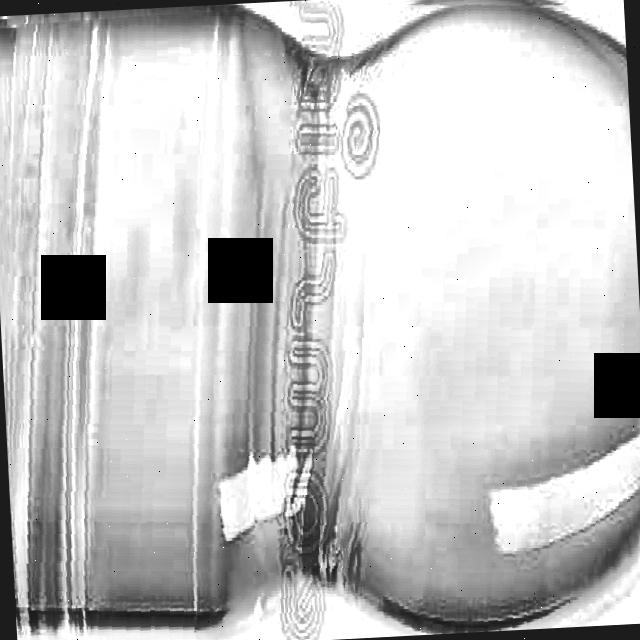bottle: (4, 4, 640, 640)
